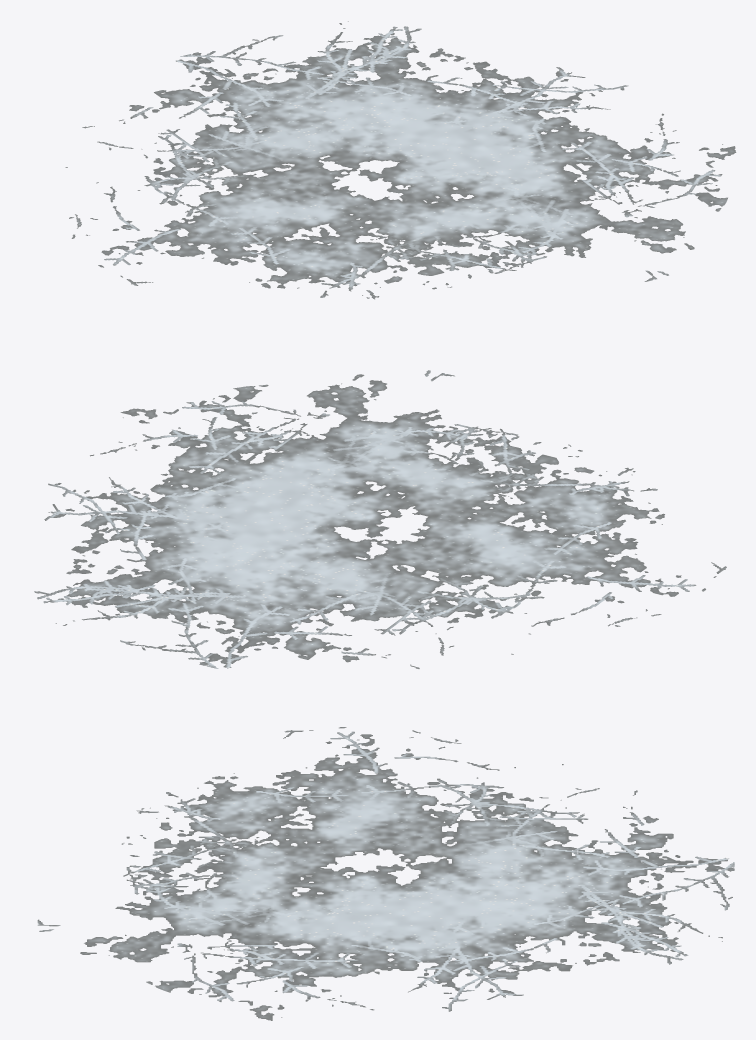
Rendered from fm_frost_patch_small.glb.
3 views of the same model, one above another, from view 1: azimuth 30°, elevation 25°; view 2: azimuth 150°, elevation 25°; view 3: azimuth 270°, elevation 25° (orthographic). The views are drawn at different scales.
Parts seen in each view (by area): view 1: fm_frost_patch_small; view 2: fm_frost_patch_small; view 3: fm_frost_patch_small.
Part boxes in pixels (x1,y1,x2,y2): fm_frost_patch_small: [65, 21, 736, 299]; fm_frost_patch_small: [34, 370, 726, 668]; fm_frost_patch_small: [37, 727, 734, 1020].
Size of the model in its own units: 0.7497 by 0.003 by 0.719.
1 material, 1 textured.
